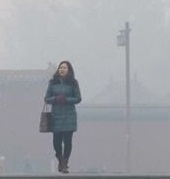person: (38, 60, 83, 174)
